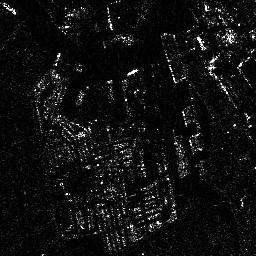ship: (2, 1, 16, 14)
